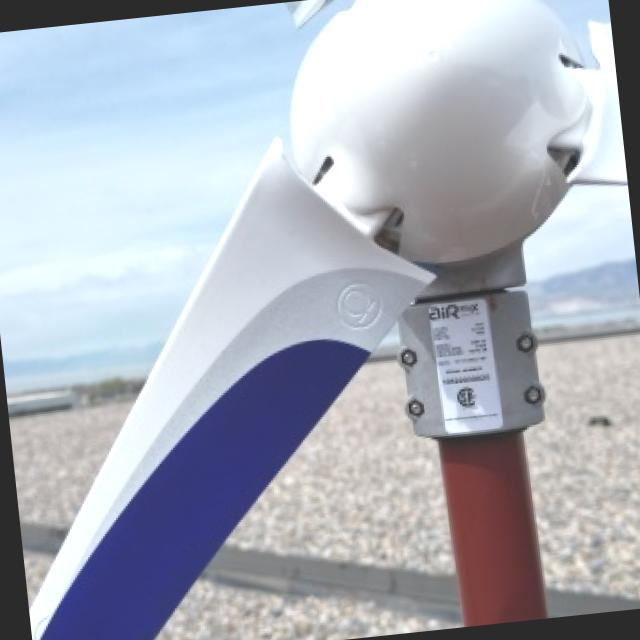healthy: (457, 521, 538, 621)
